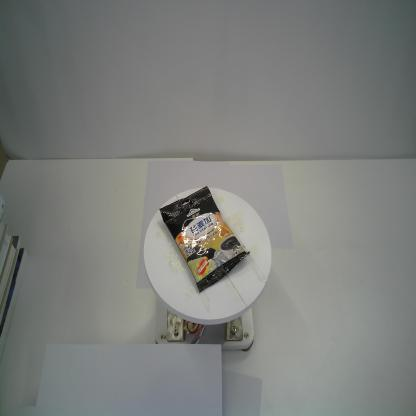Instant Drink: (159, 186, 249, 293)
